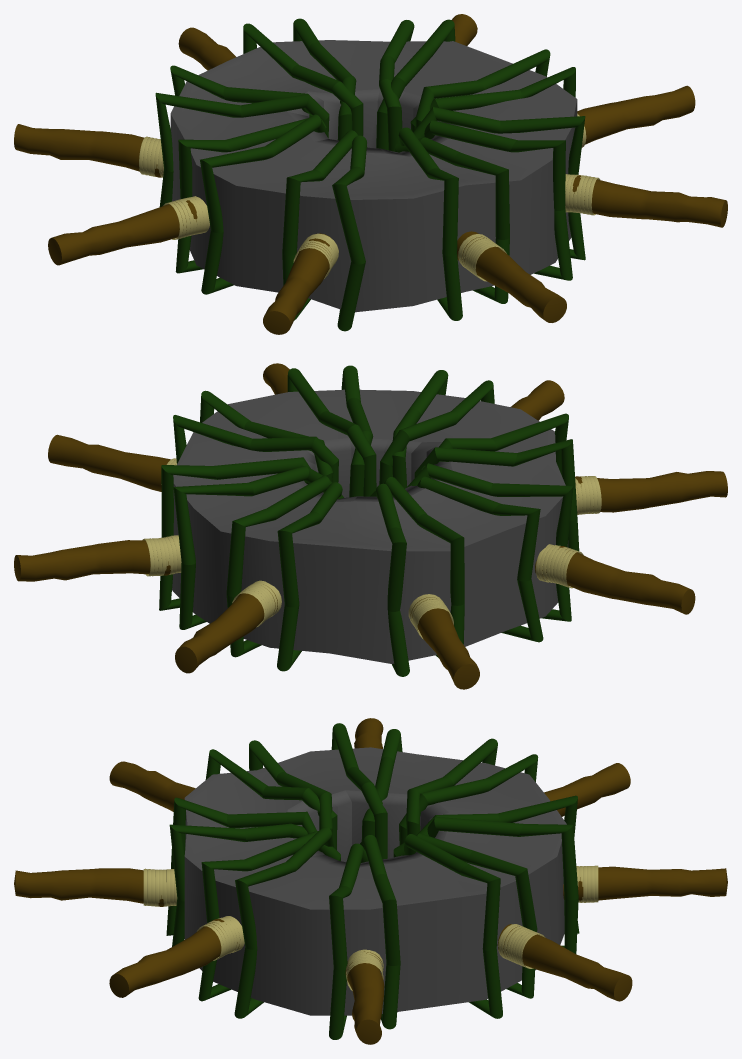
The model's file is gear.fbx.
3 renders of one model, top to bottom at view 1: azimuth 30°, elevation 25°; view 2: azimuth 150°, elevation 25°; view 3: azimuth 270°, elevation 25°, orthographic. The views are drawn at different scales.
Parts seen in each view (by area): view 1: pCylinder2, pCylinder11, pCylinder14, pCylinder18, pTorus16, pTorus47, pTorus17, pTorus19, pCylinder16, pTorus22, pCylinder17, pTorus46 (+13 smaller); view 2: pCylinder2, pCylinder12, pCylinder14, pCylinder13, pTorus31, pTorus48, pCylinder16, pTorus47, pTorus15, pTorus12, pCylinder15, pTorus45 (+13 smaller); view 3: pCylinder2, pCylinder17, pCylinder15, pTorus11, pTorus15, pCylinder11, pTorus19, pCylinder12, pTorus13, pTorus14, pTorus16, pTorus23 (+13 smaller).
Boxes of the visible parts, <box> form: pCylinder2: <box>170,40,577,312</box>; pCylinder11: <box>572,175,727,227</box>; pCylinder14: <box>48,200,197,265</box>; pCylinder18: <box>14,124,162,177</box>; pTorus16: <box>424,120,572,280</box>; pTorus47: <box>200,114,327,294</box>; pTorus17: <box>155,92,329,206</box>; pTorus19: <box>413,107,585,260</box>; pCylinder16: <box>577,85,695,144</box>; pTorus22: <box>398,127,462,320</box>; pCylinder17: <box>457,231,566,322</box>; pTorus46: <box>332,135,366,331</box>; pCylinder2: <box>172,389,568,663</box>; pCylinder12: <box>14,540,170,581</box>; pCylinder14: <box>535,546,695,614</box>; pCylinder13: <box>575,471,727,512</box>; pTorus31: <box>173,466,322,629</box>; pTorus48: <box>417,476,543,642</box>; pCylinder16: <box>48,434,170,491</box>; pTorus47: <box>406,463,573,621</box>; pTorus15: <box>159,457,310,610</box>; pTorus12: <box>277,482,342,671</box>; pCylinder15: <box>175,589,277,673</box>; pTorus45: <box>414,439,579,551</box>; pCylinder2: <box>184,747,566,1015</box>; pCylinder17: <box>14,868,164,906</box>; pCylinder15: <box>563,866,727,901</box>; pTorus11: <box>427,817,578,953</box>; pTorus15: <box>404,834,502,1018</box>; pCylinder11: <box>109,919,239,997</box>; pTorus19: <box>234,827,333,1018</box>; pCylinder12: <box>497,924,632,1001</box>; pTorus13: <box>329,843,368,1039</box>; pTorus14: <box>360,835,400,1029</box>; pTorus16: <box>198,831,340,1001</box>; pTorus23: <box>169,823,318,946</box>.
Size of the model in its own units: 5 by 1.13 by 5.
